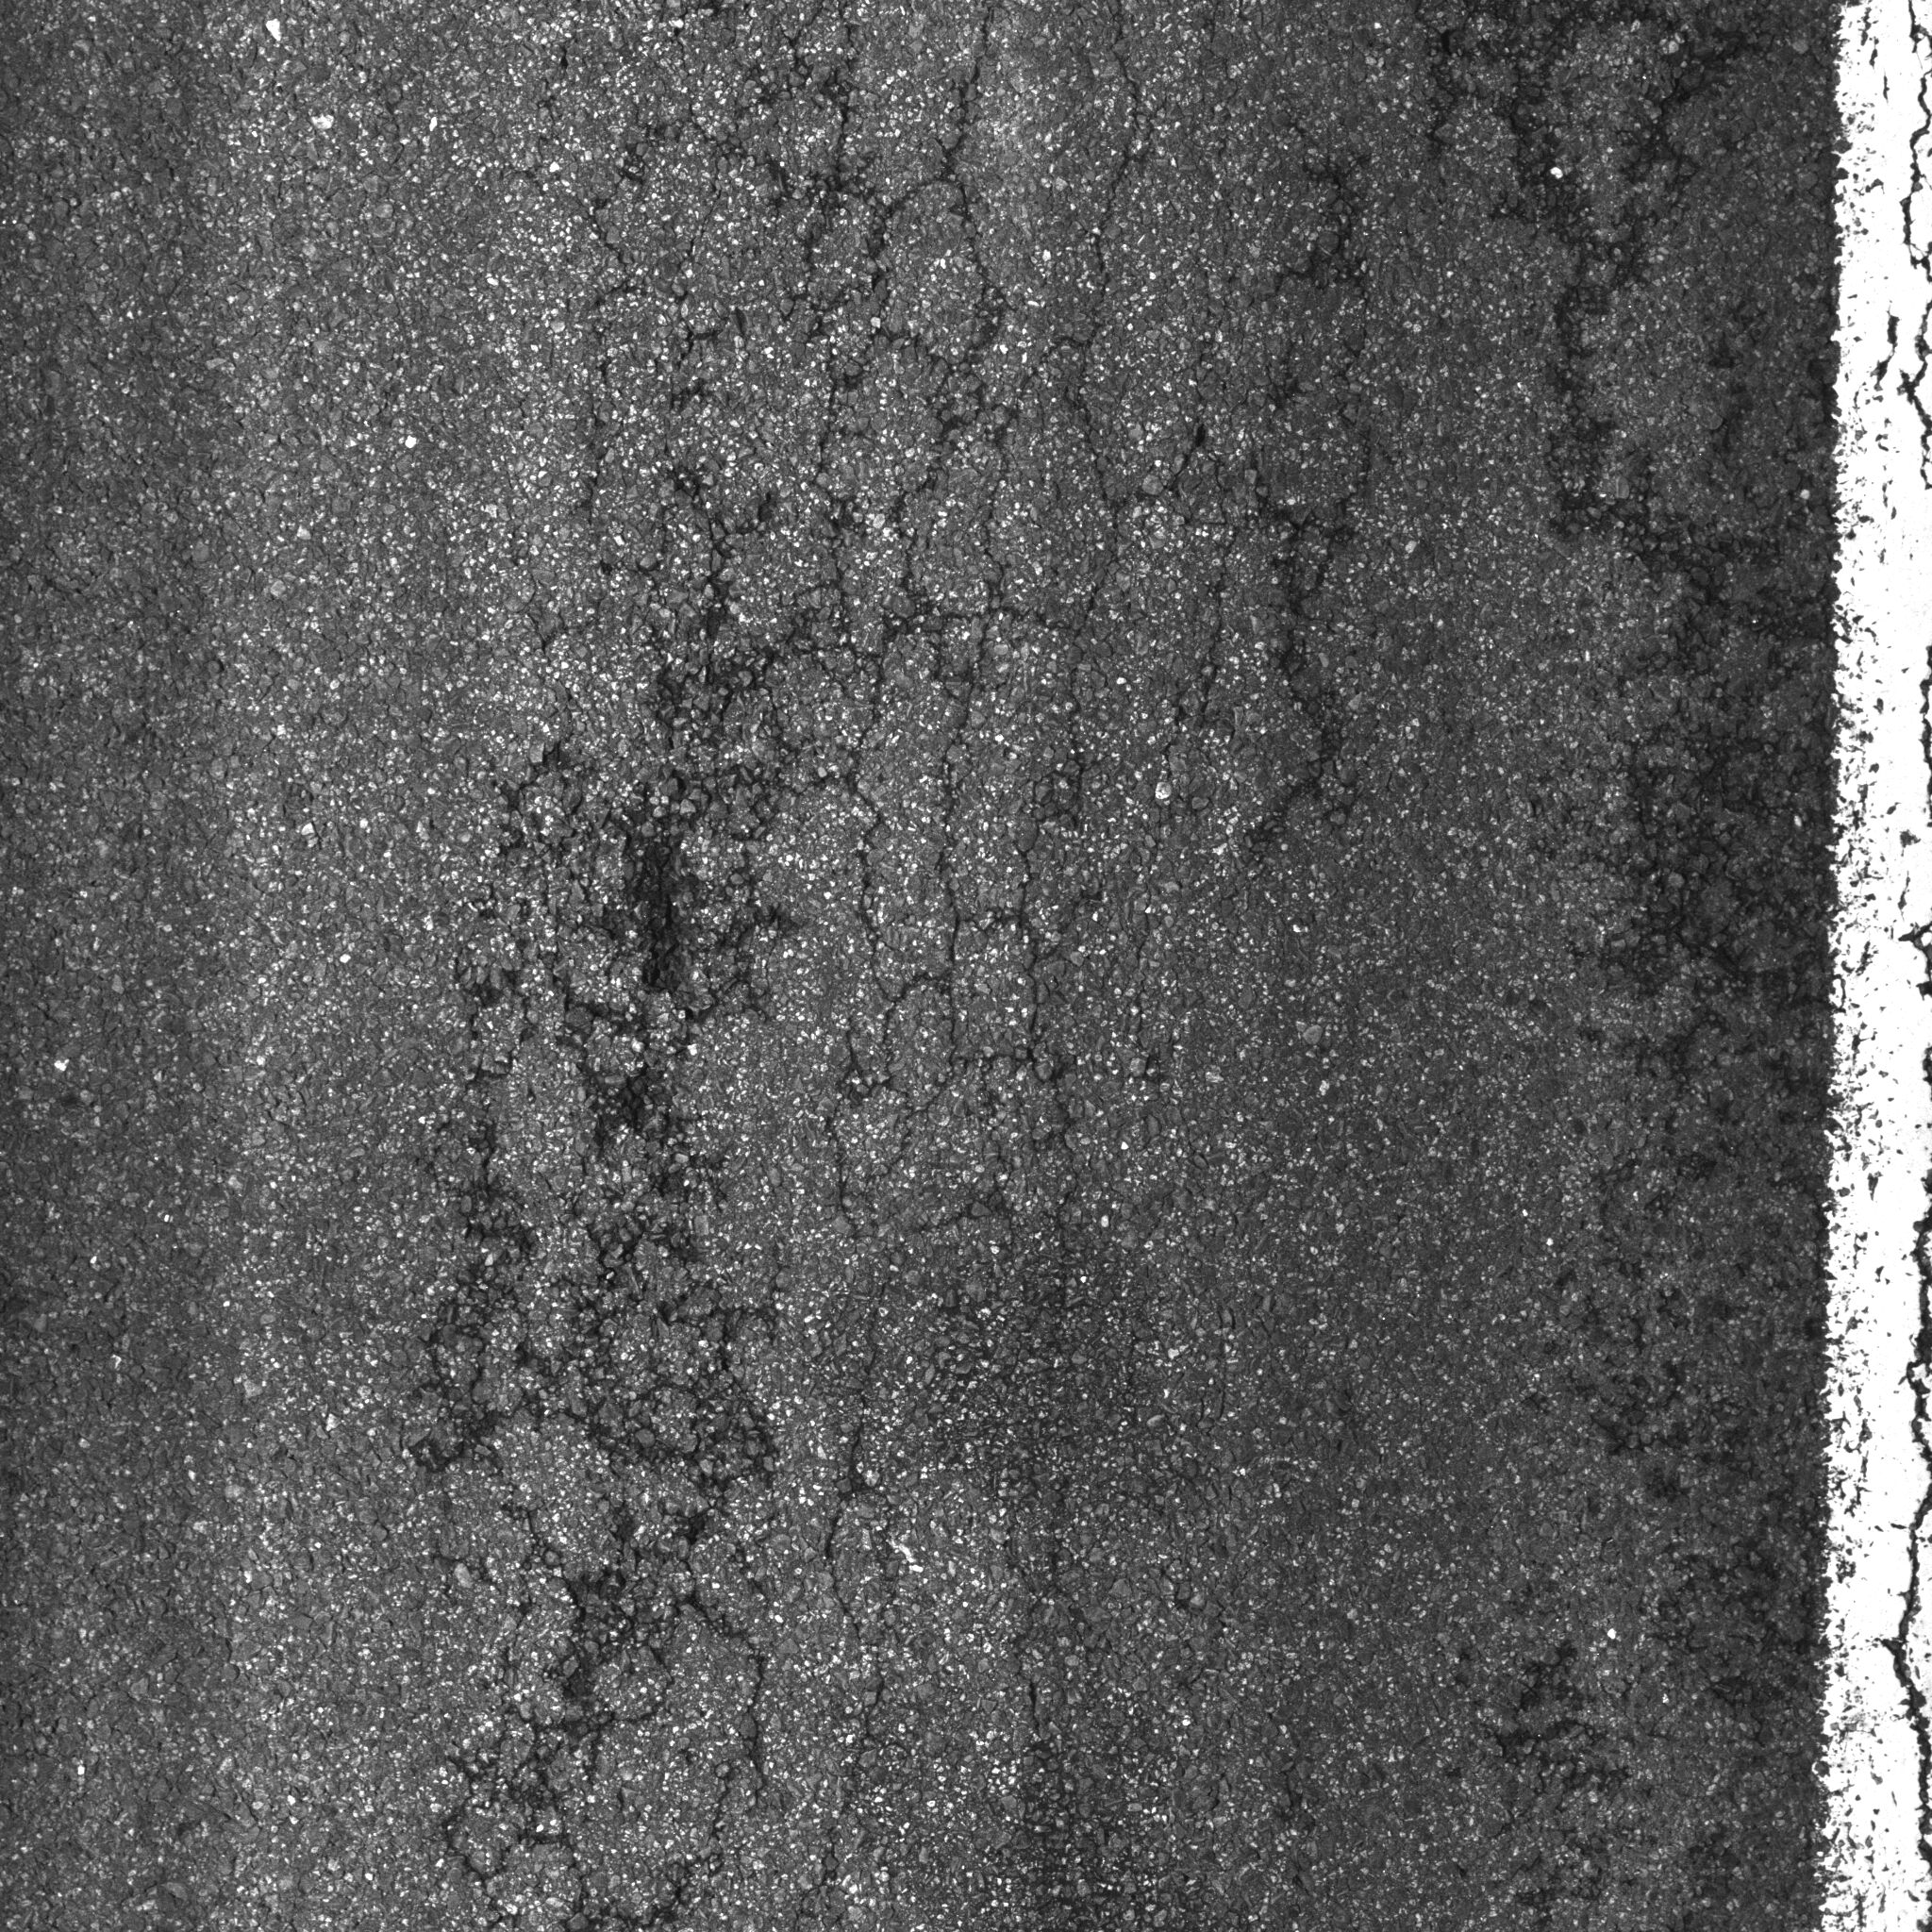alligator: (357, 9, 1842, 1932)
